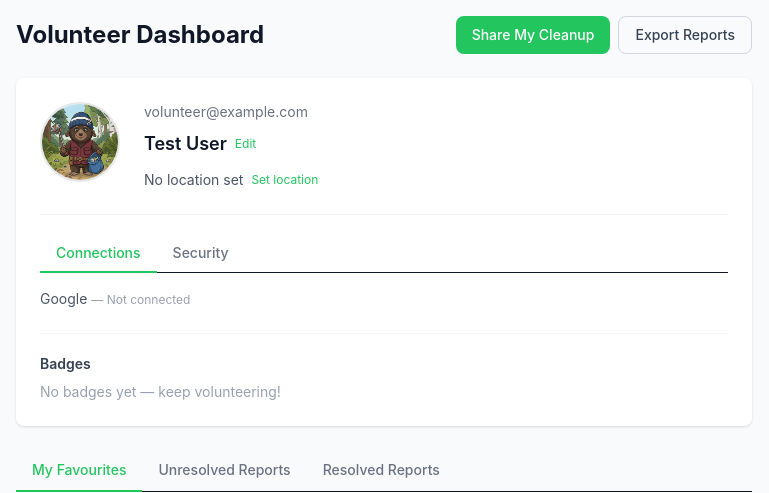
Test: VolunteerDashboard › opens city autocomplete when Set location is clicked
The width and height of the screenshot is (769, 493).
Expected: the text "Test User" is shown, [144,130,227,158]
Step 1. Click the button "Set location" → (285, 180), box [251,172,318,188]
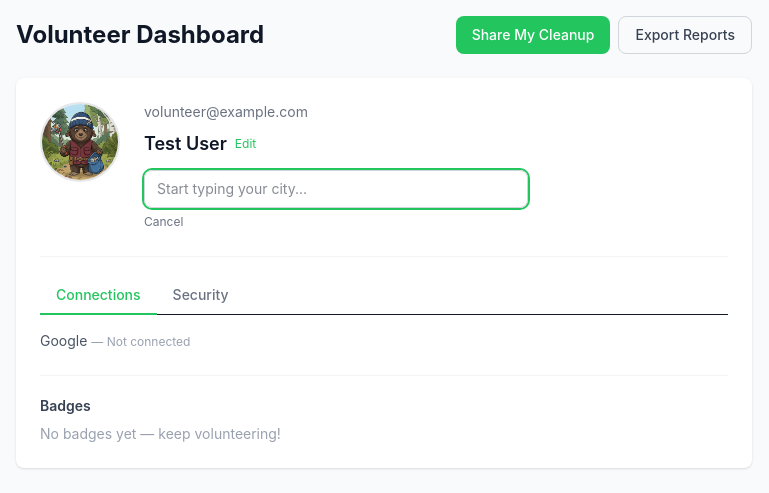
Expected: the field with placeholder "Start typing your city..." is shown, [144,170,528,208]
